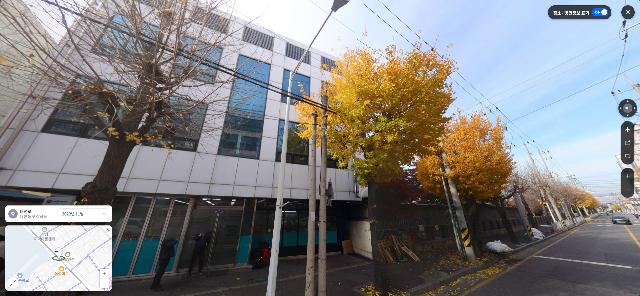ginkgo: (1, 0, 244, 206), (292, 29, 460, 296), (416, 108, 516, 259)
other: (487, 160, 537, 246), (519, 164, 556, 237)
